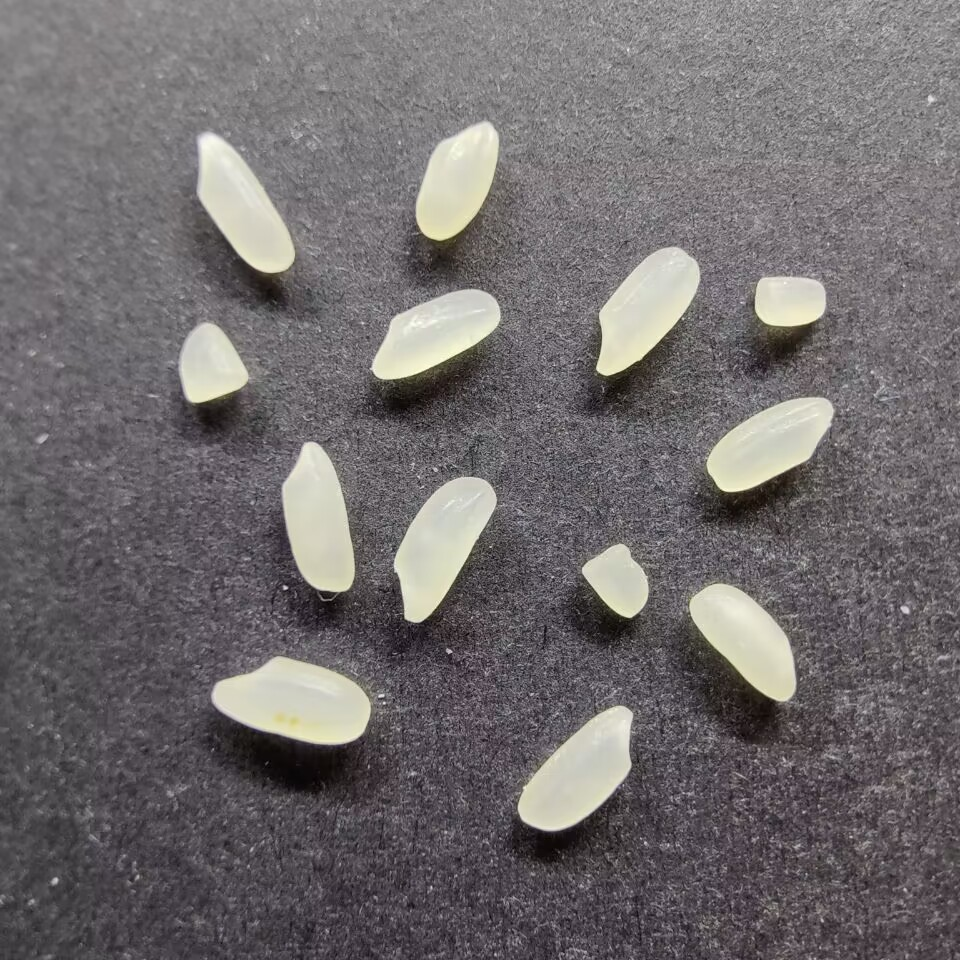broken: (176, 322, 250, 405), (578, 541, 652, 620), (751, 273, 829, 328)
rice: (391, 474, 497, 624), (515, 701, 634, 833), (192, 130, 297, 275), (209, 654, 373, 746), (593, 245, 700, 377), (687, 582, 799, 704), (704, 394, 835, 494), (369, 285, 502, 382), (278, 440, 357, 593), (413, 119, 499, 242)
